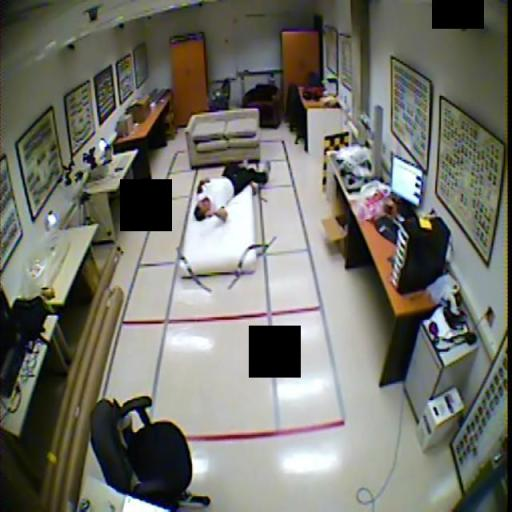Fall: (194, 155, 271, 223)
